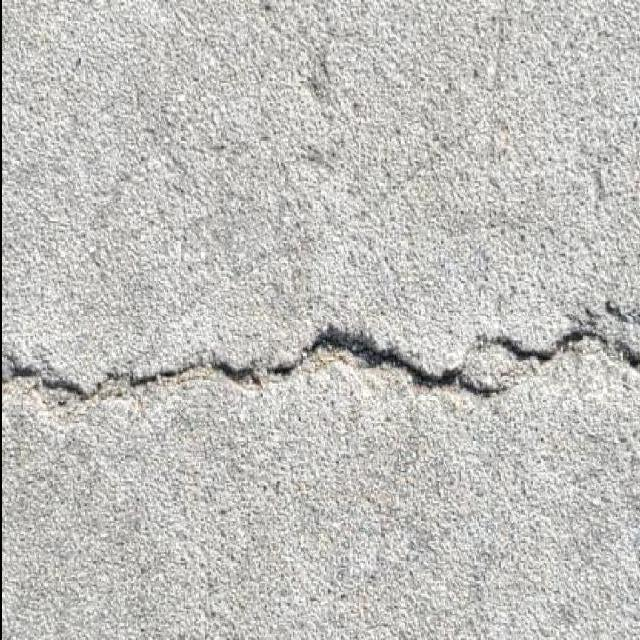Crack: (2, 297, 639, 408)
